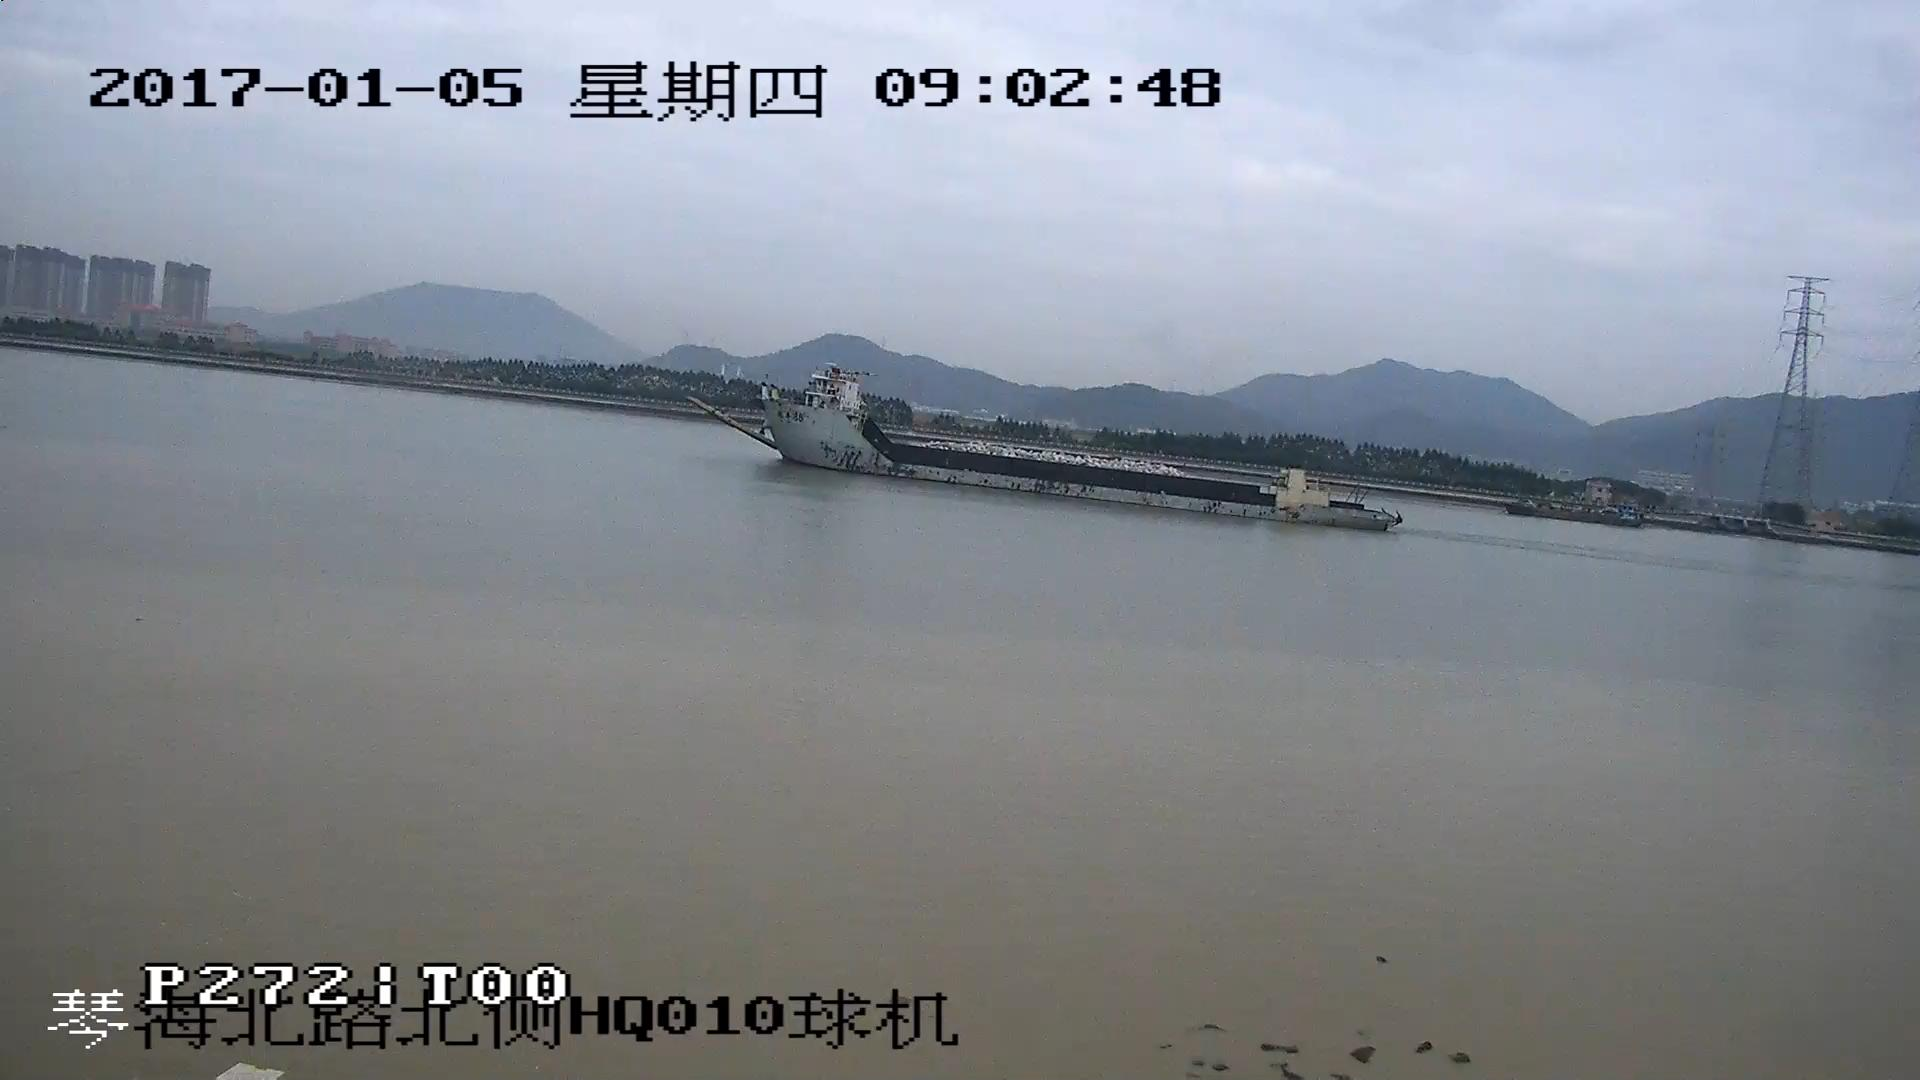bulk cargo carrier: (704, 372, 1394, 536)
